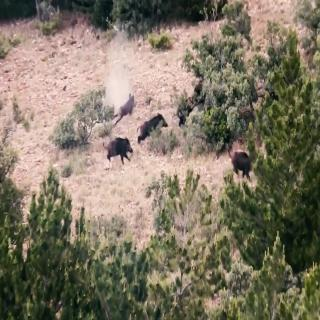Pig: (99, 123, 137, 169), (226, 142, 257, 177), (137, 113, 165, 140)
